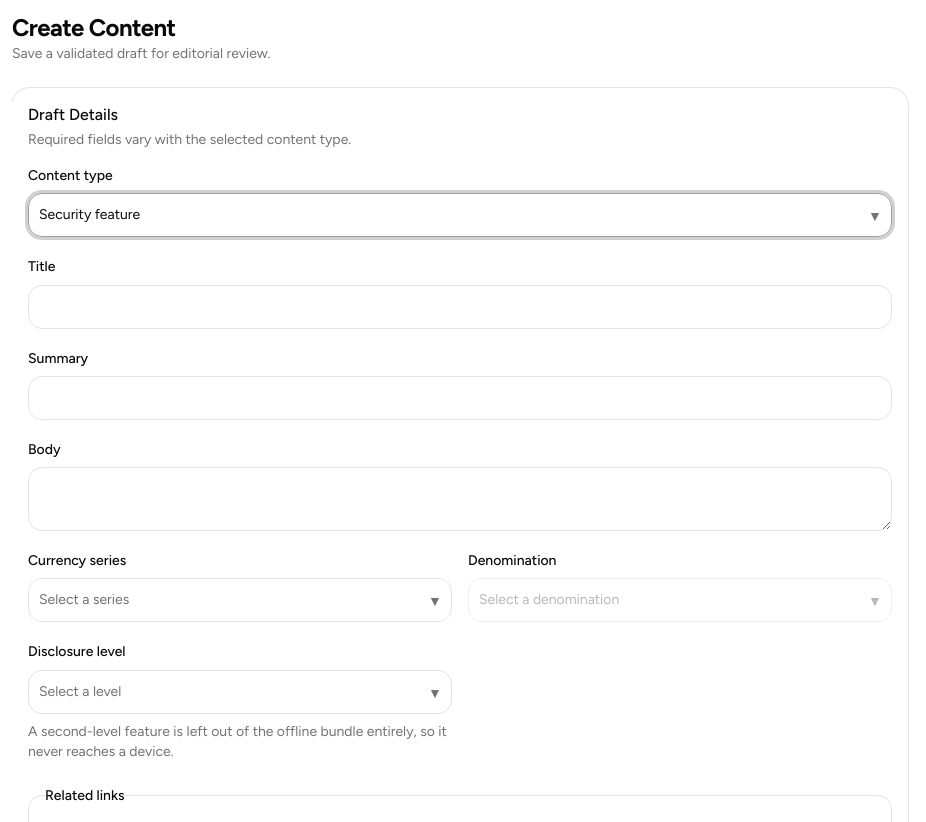
Test: ContentFormView › filters denominations and clears one invalid for a changed series
Earlier steps of the test are not shown.
Click the dropdown named "currency series" at {"x": 84, "y": 600}, box [28,578,452,622]
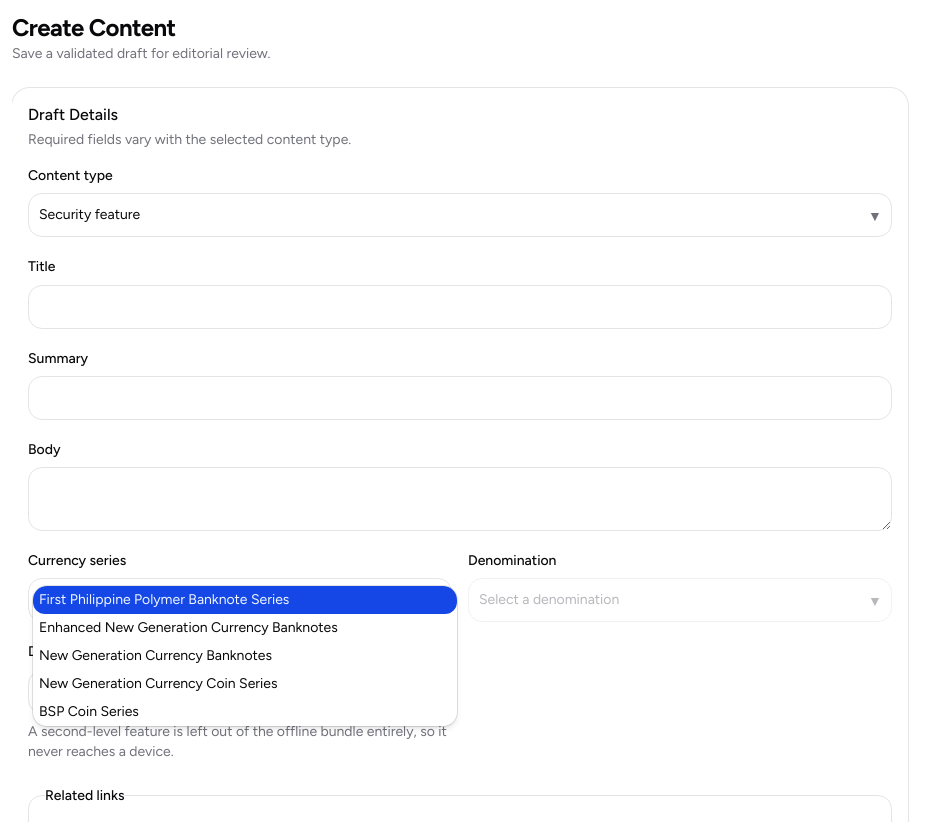
Click the option "New Generation Currency Banknotes" at {"x": 156, "y": 656}, box [39,647,272,664]
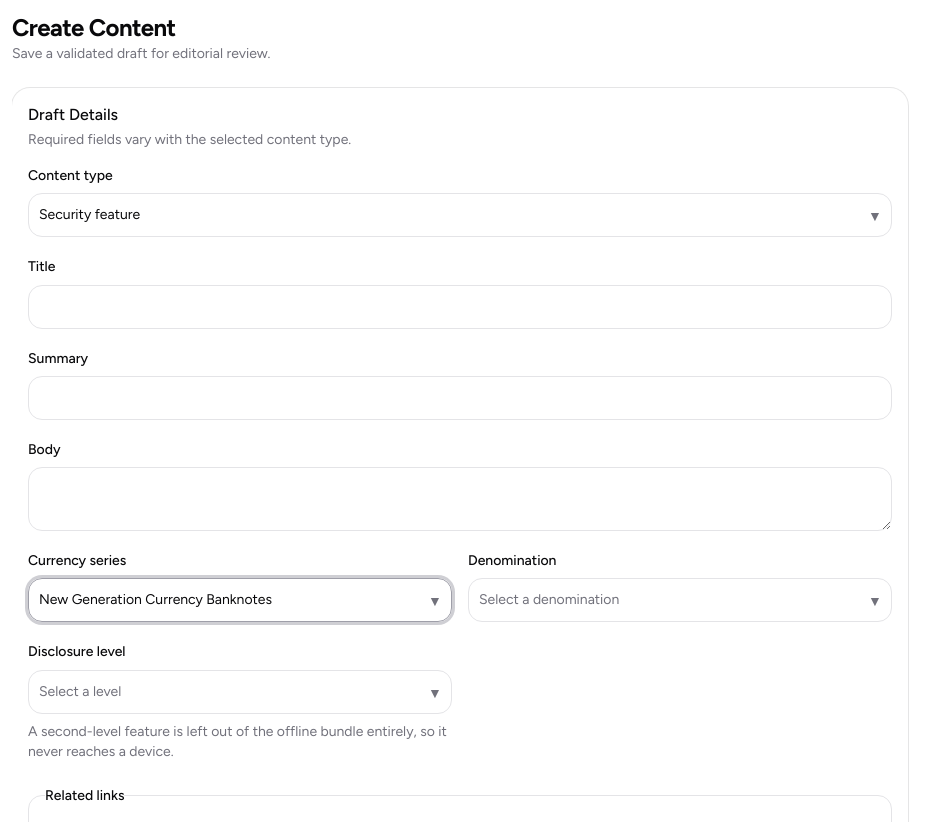
Click the dropdown labelled "Select a denomination ▼" at {"x": 549, "y": 600}, box [468,578,892,622]
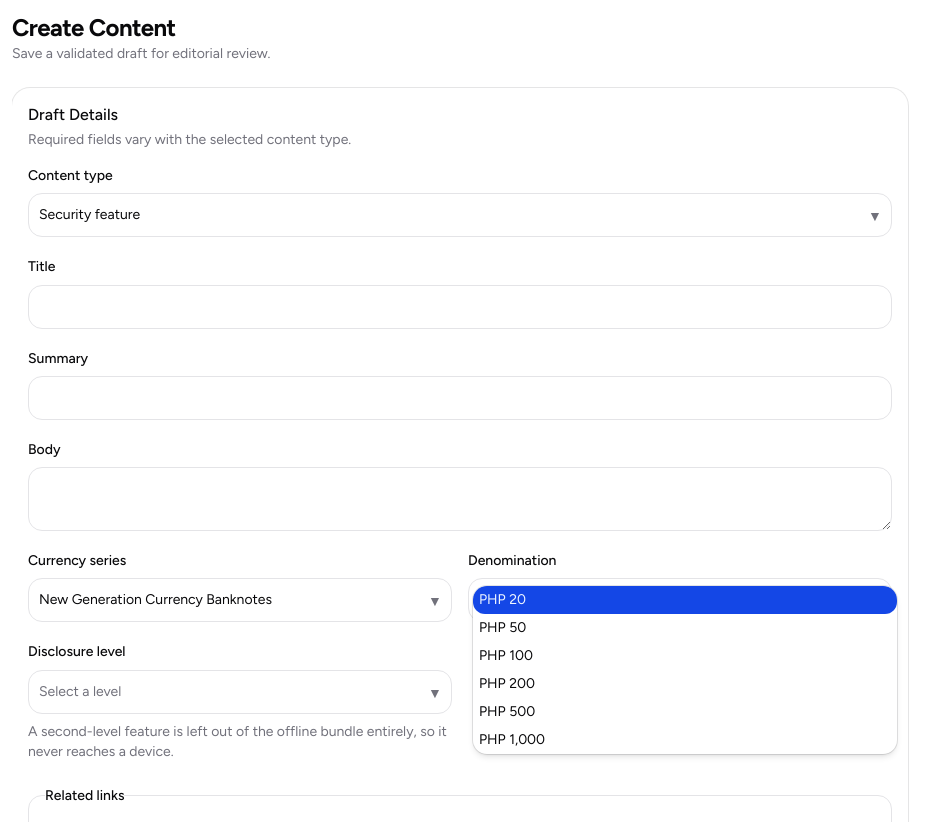
Click the option "PHP 200" at {"x": 507, "y": 684}, box [479,675,535,692]
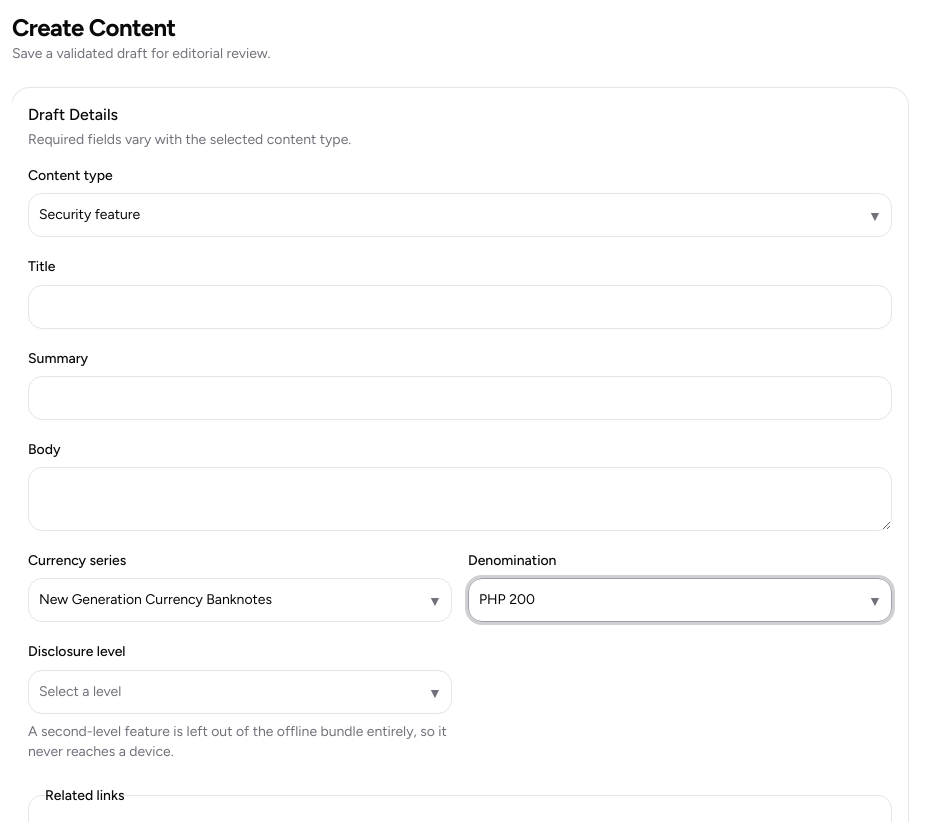
Check: the dropdown named "denomination" shows "PHP 200", box [468,578,892,622]
Click the dropdown named "currency series" at {"x": 240, "y": 600}, box [28,578,452,622]
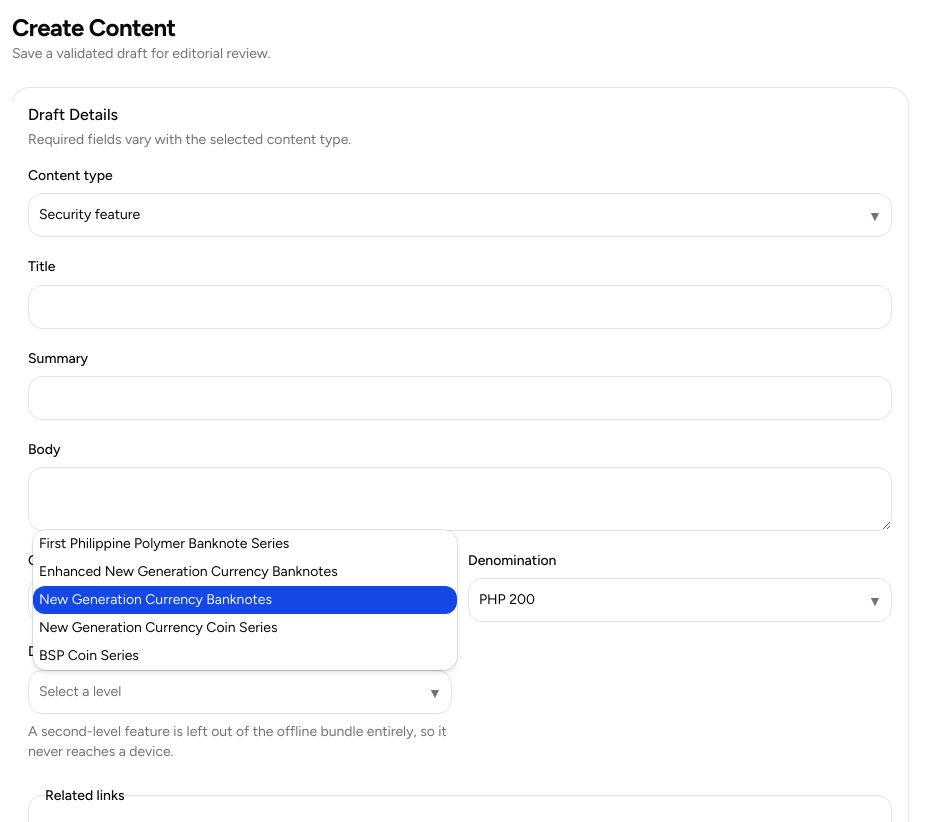
Click the option "First Philippine Polymer Banknote Series" at {"x": 164, "y": 544}, box [39,535,289,552]
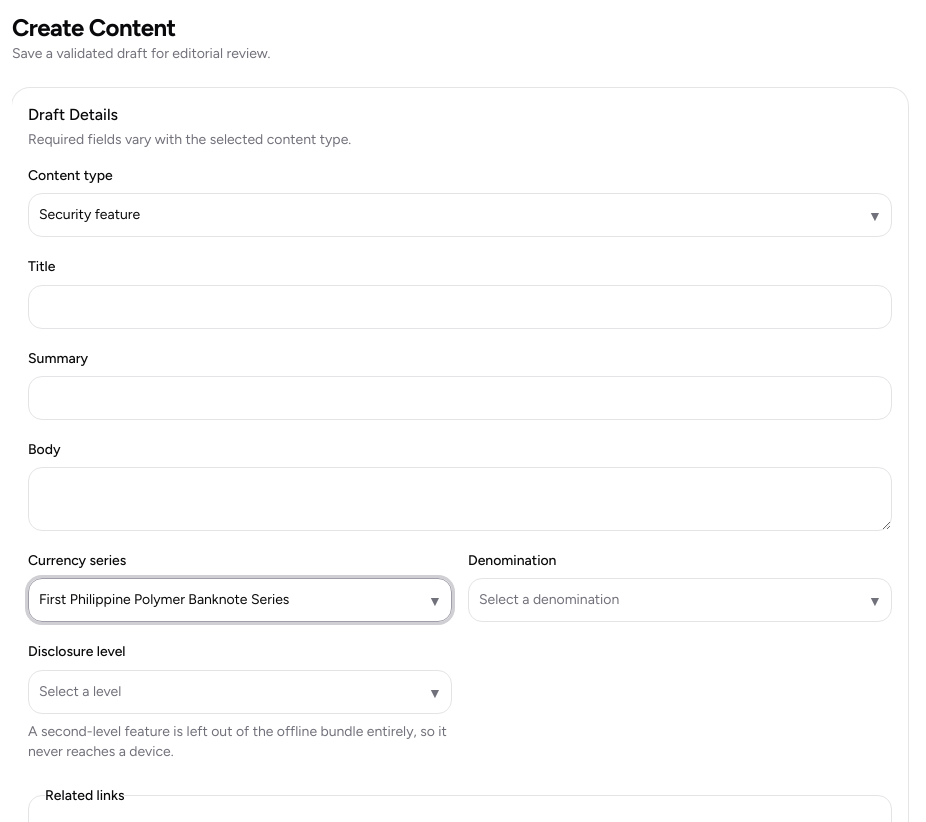
Check: the dropdown named "currency series" shows "First Philippine Polymer Banknote Series", box [28,578,452,622]
Check: the dropdown labelled "Select a denomination ▼" is shown, box [468,578,892,622]
